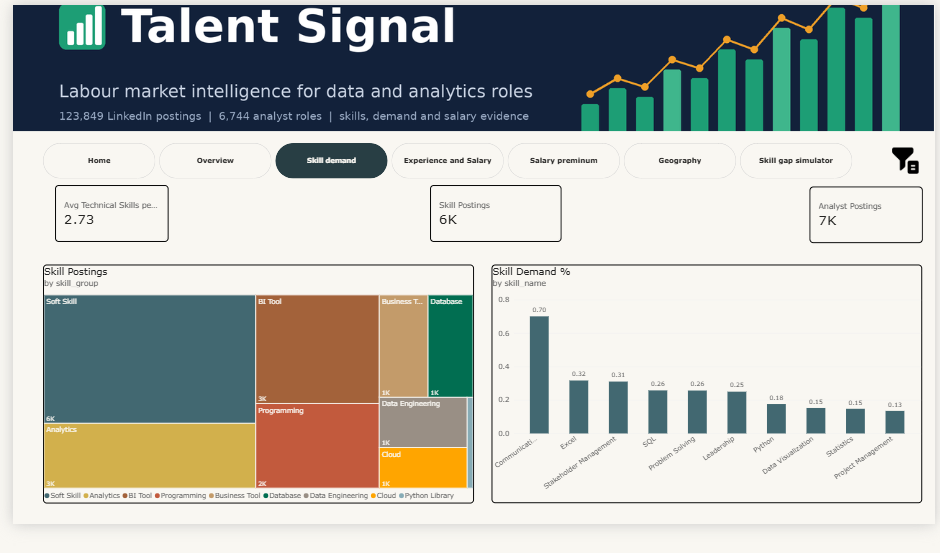

The page's visual inventory and layout, read from the dashboard file:
{"tool":"powerbi","page":{"name":"Skill demand","canvas":[1920,1080],"ordinal":2},"visuals":[{"type":"clusteredColumnChart","fields":{"Category":["public dim_skill.skill_name"],"Y":["_Measures.Skill Demand %"]},"box":[997.9,540.4,897,497],"z":0},{"type":"cardVisual","fields":{"Data":["_Measures.Analyst Postings"]},"box":[1659.6,378.7,236,118],"z":1000},{"type":"pageNavigator","box":[61.7,287.2,1691.5,74.5],"z":2000},{"type":"image","box":[1828.6,295.6,62,54.9],"z":4000},{"type":"cardVisual","fields":{"Data":["_Measures.Avg Technical Skills per Posting"]},"box":[87.2,376,236.7,118.3],"z":8000},{"type":"cardVisual","fields":{"Data":["_Measures.Skill Postings"]},"box":[867.5,376.5,274.1,118.5],"z":10000},{"type":"treemap","fields":{"Group":["public dim_skill.skill_group"],"Values":["_Measures.Skill Postings"]},"box":[61.7,540.4,897.9,497.9],"z":12000},{"type":"image","box":[1.5,0,1918.5,263],"z":20000}]}

Visuals, with their boxes on the page's 1920x1080 design canvas (x1, y1, x2, y2). These are canvas units, not pixel positions in the 940x553 screenshot, which may show the page scaled, cropped or inside an application window:
clusteredColumnChart - public dim_skill.skill_name x _Measures.Skill Demand %: (998,540,1895,1037)
cardVisual - _Measures.Analyst Postings: (1660,379,1896,497)
pageNavigator: (62,287,1753,362)
image: (1829,296,1891,350)
cardVisual - _Measures.Avg Technical Skills per Posting: (87,376,324,494)
cardVisual - _Measures.Skill Postings: (868,376,1142,495)
treemap - public dim_skill.skill_group x _Measures.Skill Postings: (62,540,960,1038)
image: (2,0,1920,263)
